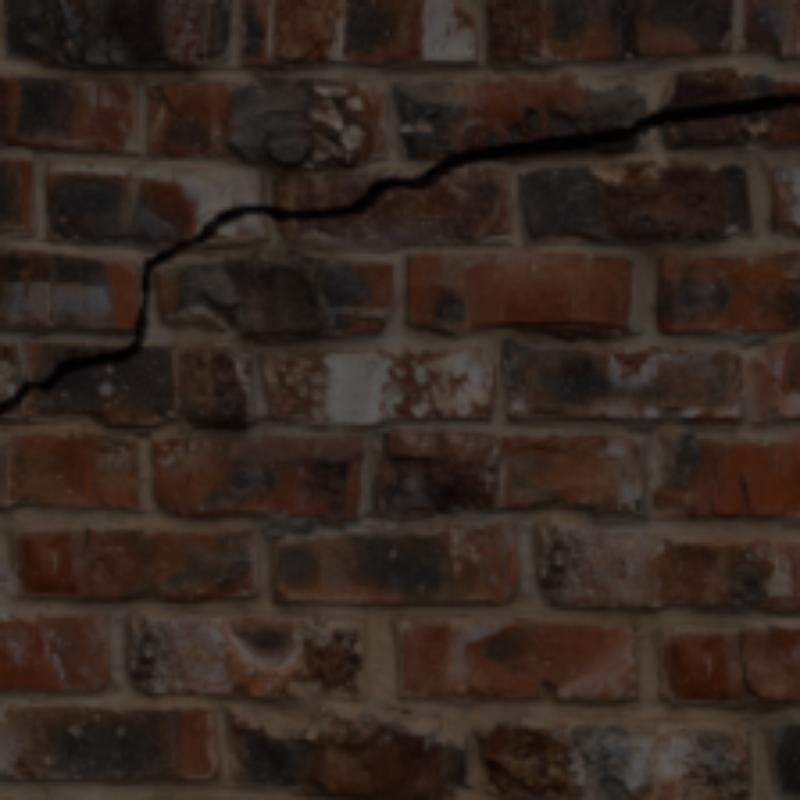pothole: (0, 93, 796, 411), (739, 632, 757, 700)
